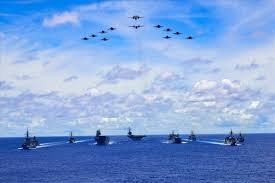maybay_muctieu: (183, 34, 196, 42), (129, 13, 143, 20), (128, 24, 144, 30), (100, 35, 112, 43), (161, 33, 173, 40), (153, 22, 164, 29), (106, 25, 115, 33), (163, 27, 173, 34), (173, 30, 183, 37), (98, 28, 109, 34)
tau_muctieu: (20, 133, 41, 150), (126, 128, 146, 143), (94, 131, 112, 144), (223, 130, 234, 146), (167, 133, 181, 144), (236, 131, 246, 145), (189, 132, 197, 144)
